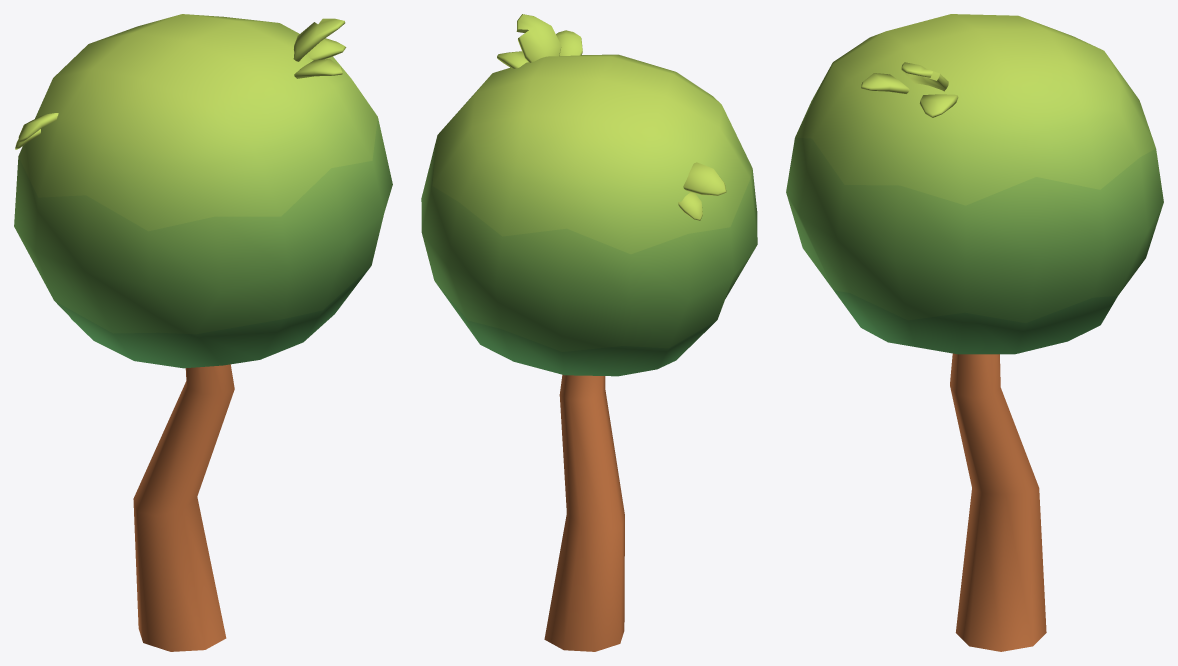
File: tree 02_toon_material_0.001.glb
The picture shows the model from 3 angles, left to right: view 1: azimuth 30°, elevation 25°; view 2: azimuth 150°, elevation 25°; view 3: azimuth 270°, elevation 25°; orthographic projection. The views are drawn at different scales.
Parts seen in each view (by area): view 1: tree 02_toon_material_0.001; view 2: tree 02_toon_material_0.001; view 3: tree 02_toon_material_0.001.
Part boxes in pixels (<box>): tree 02_toon_material_0.001: <box>14,14,392,651</box>; tree 02_toon_material_0.001: <box>421,14,757,651</box>; tree 02_toon_material_0.001: <box>786,14,1163,651</box>.
Size of the model in its own units: 2.08 by 3.73 by 2.06.
1 material, 1 textured.
